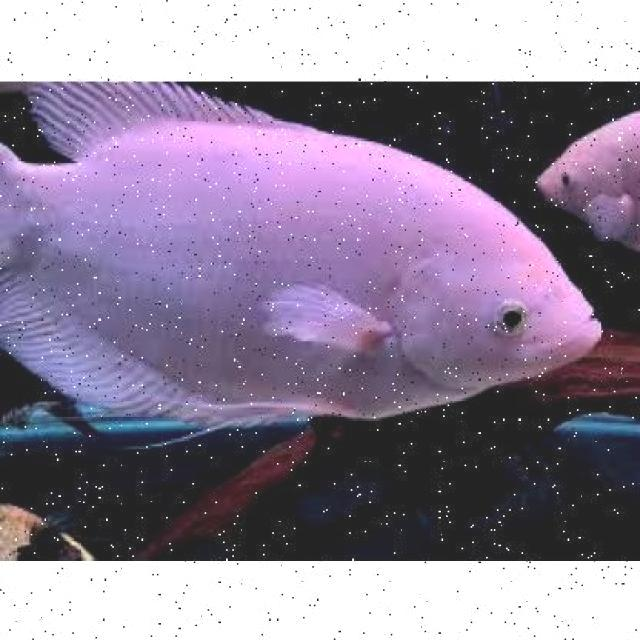gurame: (0, 98, 597, 431)
